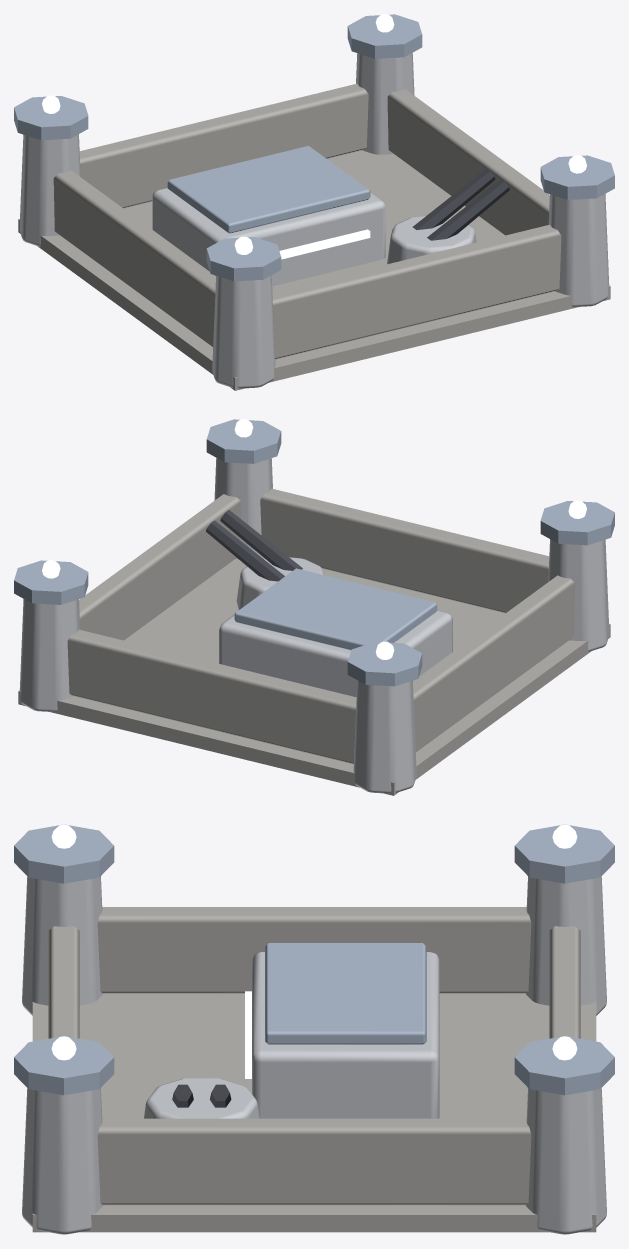
The model's file is garrison.glb.
3 renders of one model, top to bottom at view 1: azimuth 30°, elevation 25°; view 2: azimuth 150°, elevation 25°; view 3: azimuth 270°, elevation 25°, orthographic. The views are drawn at different scales.
Visible parts, largest first — view 1: garrison; view 2: garrison; view 3: garrison.
Part boxes in pixels (left/top/right/bottom): garrison: left=14, top=14, right=614, bottom=390; garrison: left=14, top=419, right=614, bottom=795; garrison: left=14, top=824, right=614, bottom=1234.
Size of the model in its own units: 0.96 by 0.32 by 0.96.
